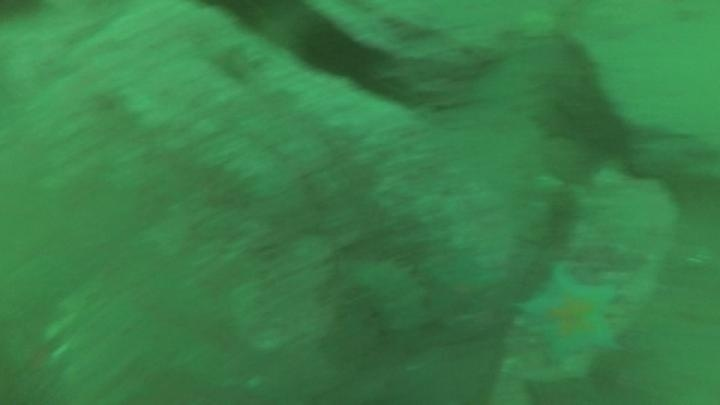echinus: (295, 22, 377, 83)
holothurian: (338, 254, 432, 338)
starfish: (512, 260, 625, 367), (421, 247, 506, 323), (530, 100, 580, 145)
